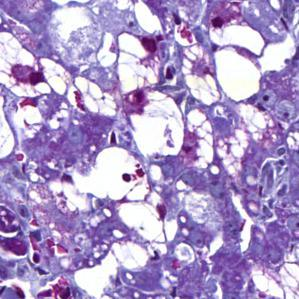ballooning: (39, 48, 119, 120), (124, 88, 189, 159), (4, 28, 51, 101), (179, 40, 222, 107)
